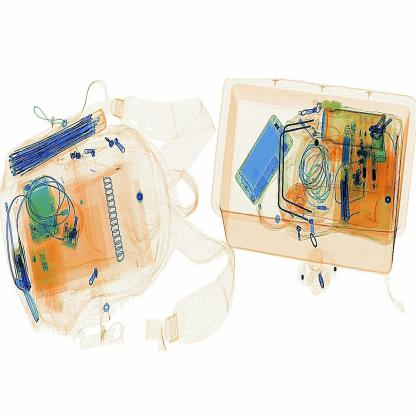scissors: (336, 168, 362, 231)
